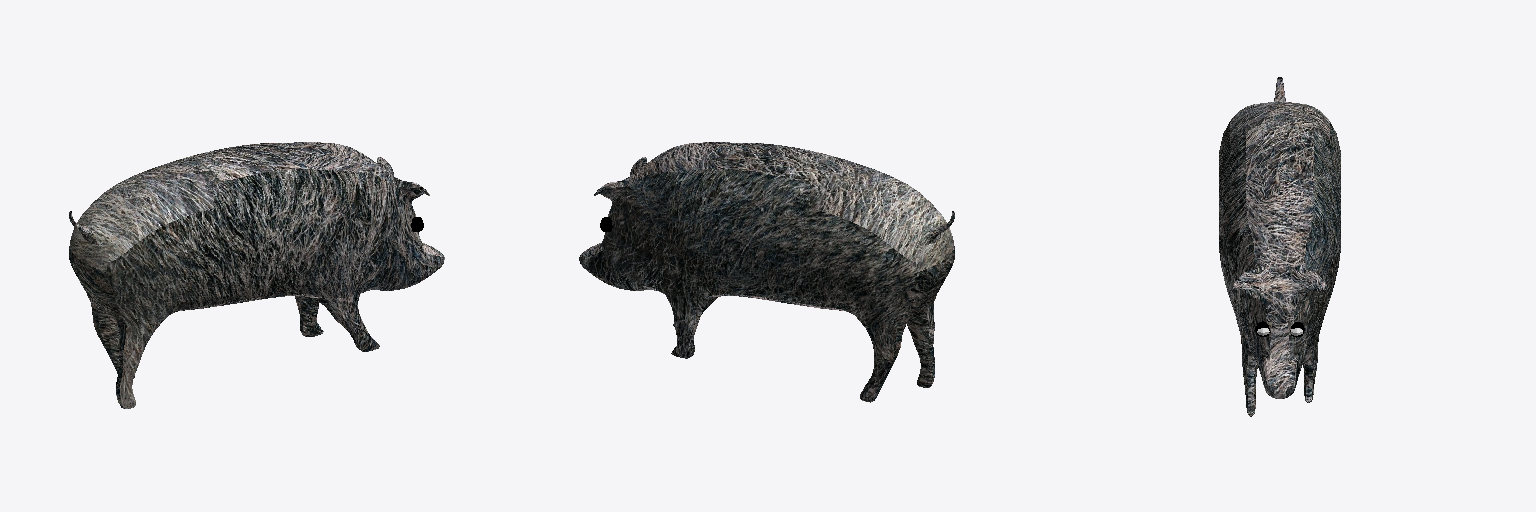
3 views of the same model, side by side, from view 1: azimuth 30°, elevation 25°; view 2: azimuth 150°, elevation 25°; view 3: azimuth 270°, elevation 25° (orthographic).
Parts seen in each view (by area): view 1: Plane; view 2: Plane; view 3: Plane.
Boxes of the visible parts, box(x1,y1,x2,y2) form: Plane: box(69, 142, 444, 408); Plane: box(579, 142, 954, 402); Plane: box(1219, 77, 1340, 416).
Size of the model in its own units: 6.45 by 3.59 by 1.83.
2 materials, 2 textured.